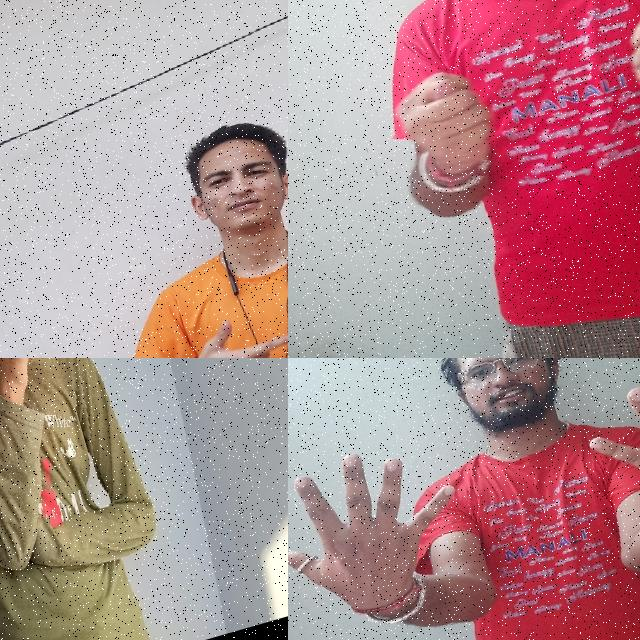Dulya: (379, 51, 511, 192), (611, 0, 640, 139)
Five Fathers: (163, 262, 288, 358)
Moutza: (288, 418, 491, 640), (568, 358, 640, 547)
